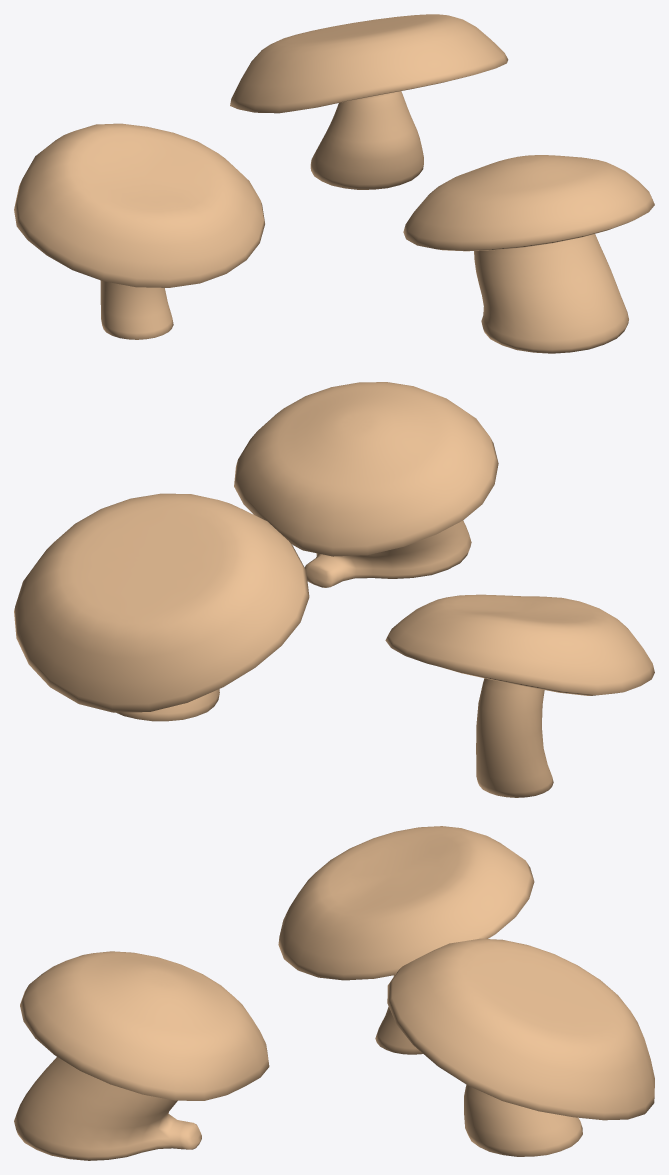
The model's file is mushrooms.fbx.
3 renders of one model, top to bottom at view 1: azimuth 30°, elevation 25°; view 2: azimuth 150°, elevation 25°; view 3: azimuth 270°, elevation 25°, orthographic. The views are drawn at different scales.
Visible parts, largest first — view 1: 3_Mushroom, 2_mushroom, 1_Mushroom; view 2: 1_Mushroom, 2_mushroom, 3_Mushroom; view 3: 1_Mushroom, 2_mushroom, 3_Mushroom.
Part boxes in pixels (x1,y1,x2,y2): 3_Mushroom: (14, 123, 264, 339); 2_mushroom: (403, 155, 654, 353); 1_Mushroom: (230, 14, 508, 189); 1_Mushroom: (14, 493, 309, 721); 2_mushroom: (234, 382, 498, 587); 3_Mushroom: (385, 594, 654, 797); 1_Mushroom: (387, 938, 654, 1156); 2_mushroom: (14, 951, 269, 1160); 3_Mushroom: (278, 826, 534, 1054).
Bounding box in the file's own units: 24.53 × 9.54 × 24.62.
